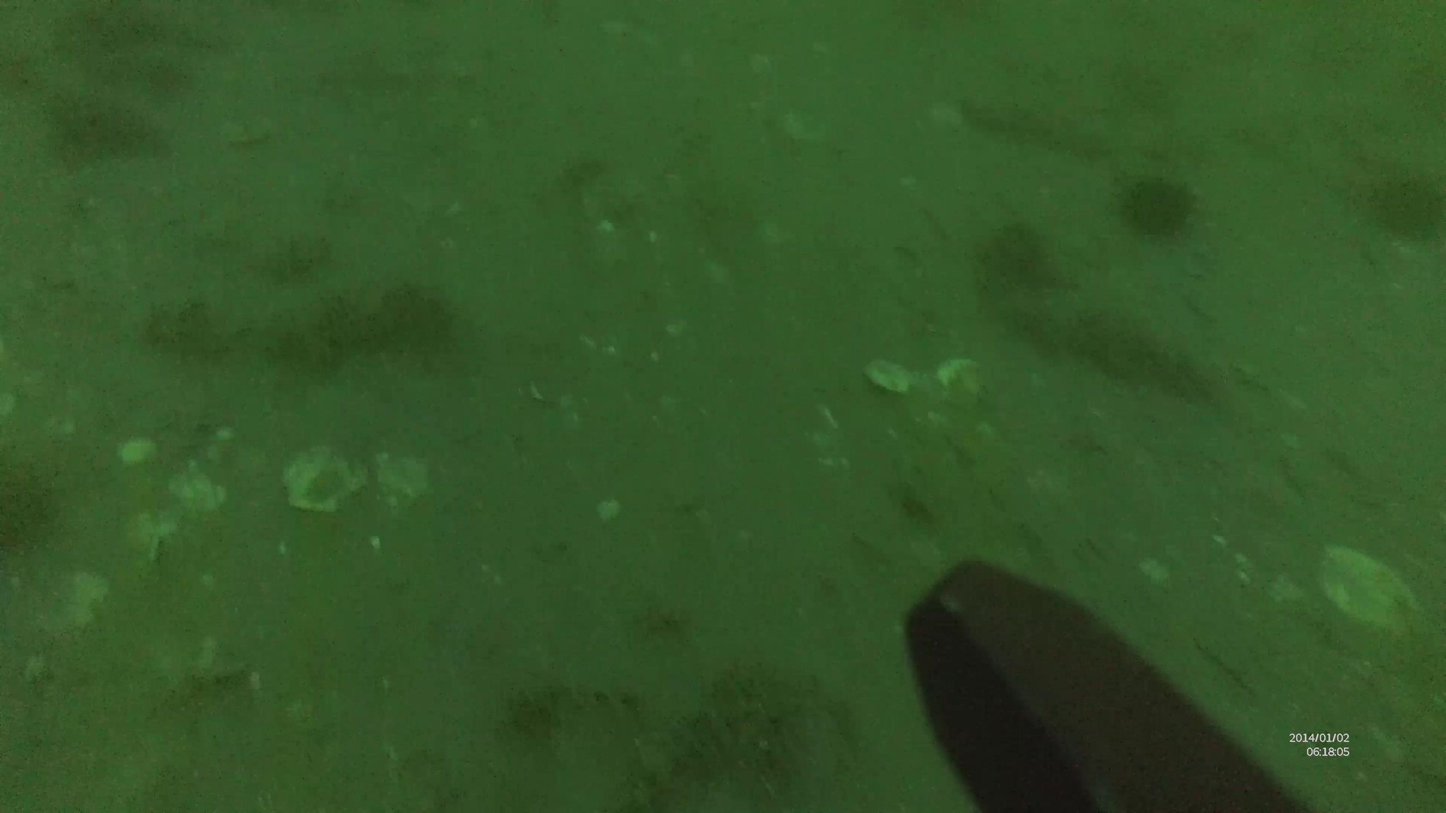scallop: (280, 447, 365, 514)
starfish: (1116, 172, 1205, 242)
